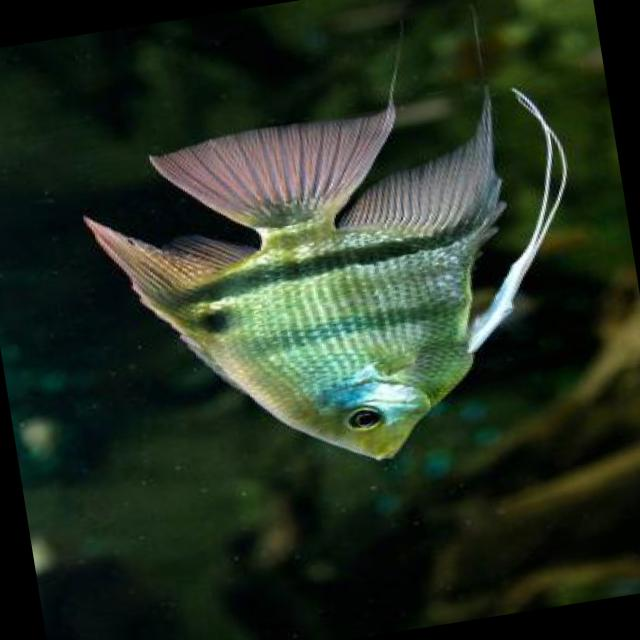AngelFish: (69, 84, 586, 502)
